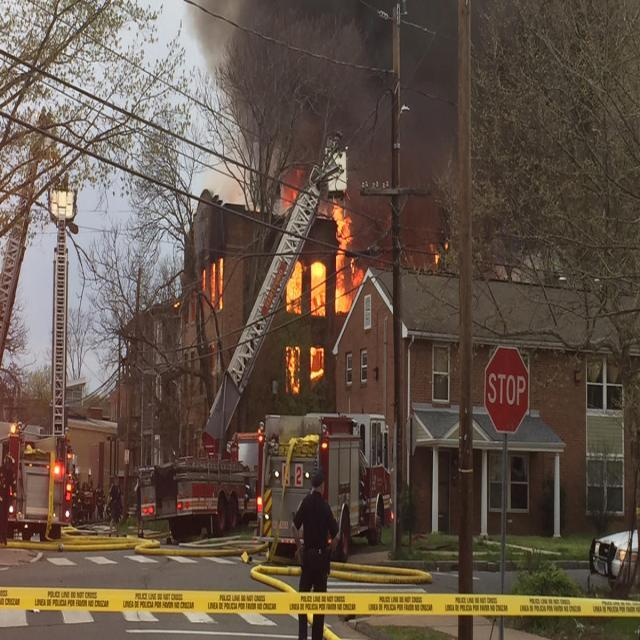Fire: (287, 258, 364, 318), (285, 343, 324, 387), (332, 204, 352, 250)
